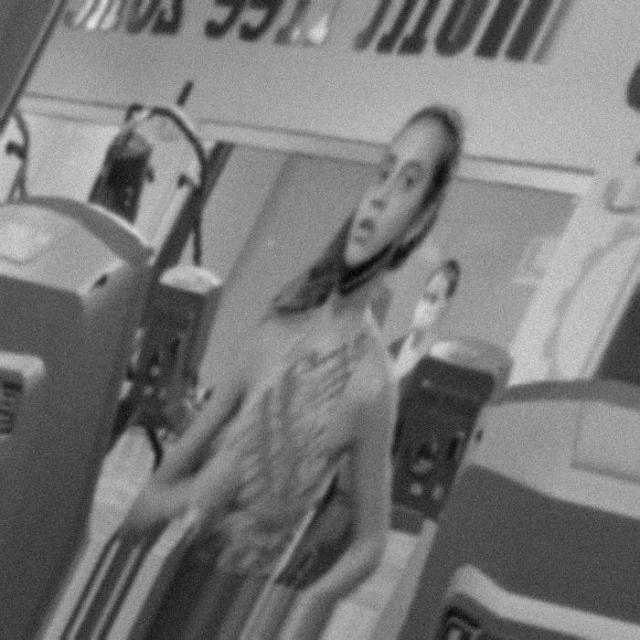hairnet: (334, 158, 417, 298)
